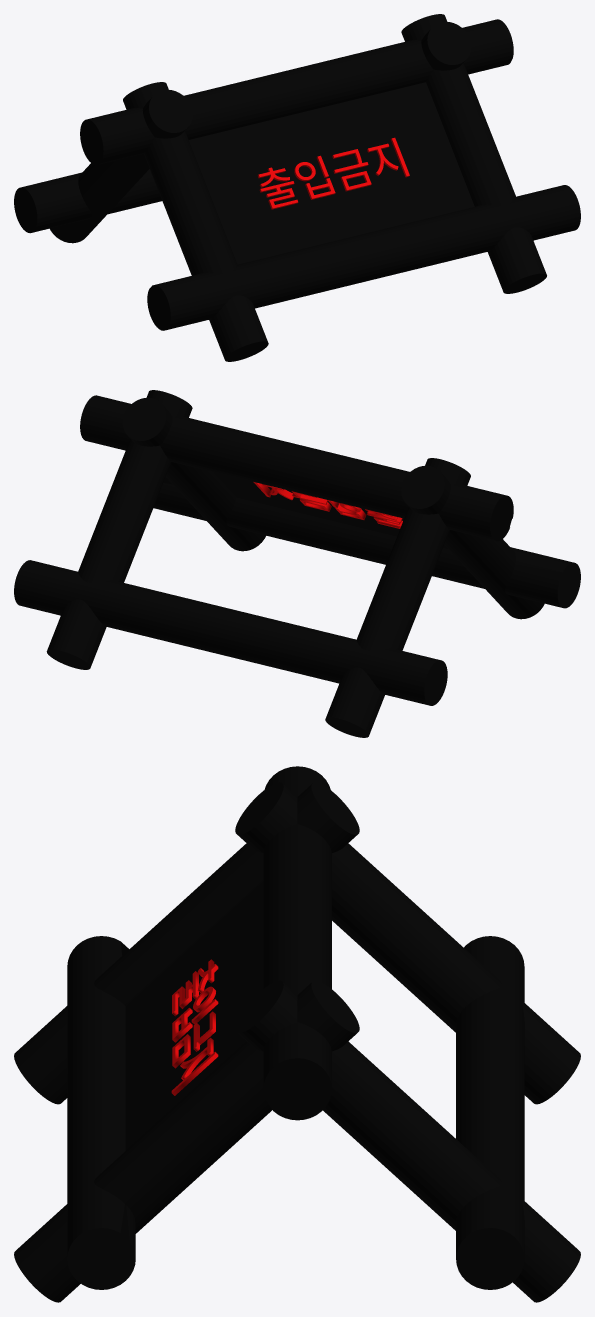
The model's file is NoEntry.glb.
3 views of the same model, one above another, from view 1: azimuth 30°, elevation 25°; view 2: azimuth 150°, elevation 25°; view 3: azimuth 270°, elevation 25° (orthographic). The views are drawn at different scales.
Parts seen in each view (by area): view 1: 실린더, 텍스트; view 2: 실린더, 텍스트; view 3: 실린더, 텍스트.
Part boxes in pixels (x1=…): 실린더: x1=14, y1=14, x2=580, y2=361; 텍스트: x1=257, y1=137, x2=409, y2=209; 실린더: x1=14, y1=390, x2=580, y2=737; 텍스트: x1=253, y1=482, x2=402, y2=528; 실린더: x1=14, y1=766, x2=580, y2=1302; 텍스트: x1=171, y1=959, x2=218, y2=1095.
Bounding box in the file's own units: 20.16 × 10.09 × 16.54.
